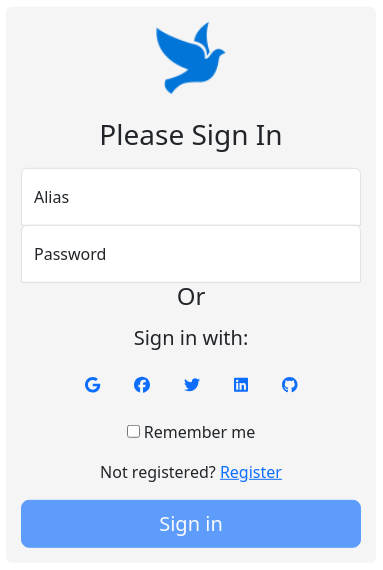
Test case: Login Component › disables sign in button if either field is blank
In the field labelled "Alias": (191,196) [21,167,361,225], type "f"
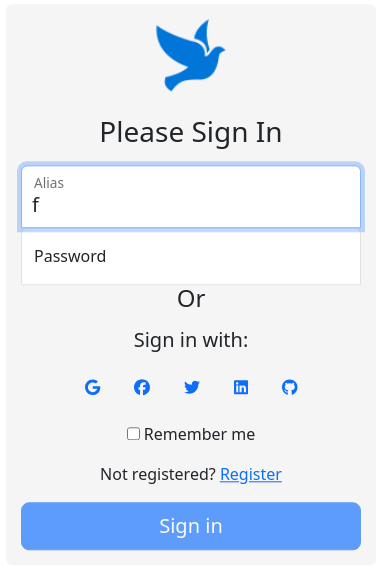
In the password field labelled "Password": (191,256) [21,227,361,285], type "f"
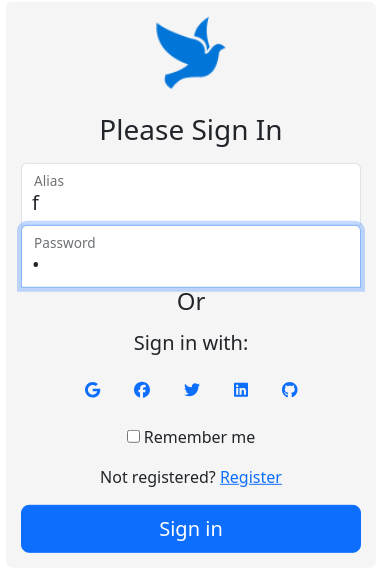
Clear the field labelled "Alias": (191,194) [21,162,361,225]
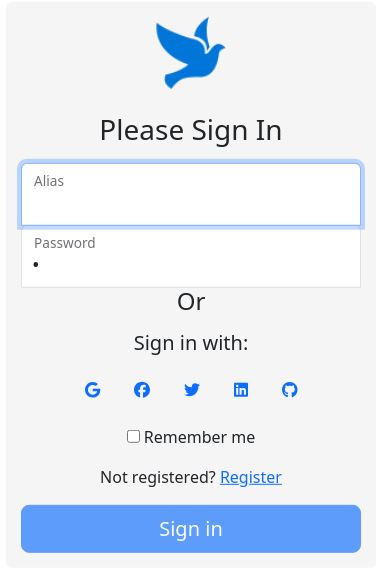
Check: the button "Sign in" is disabled, box [21,505,361,553]
In the field labelled "Alias": (191,194) [21,162,361,225], type "f"
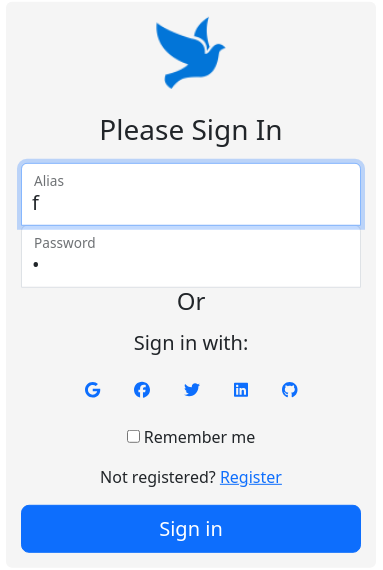
Clear the password field labelled "Password": (191,256) [21,224,361,287]
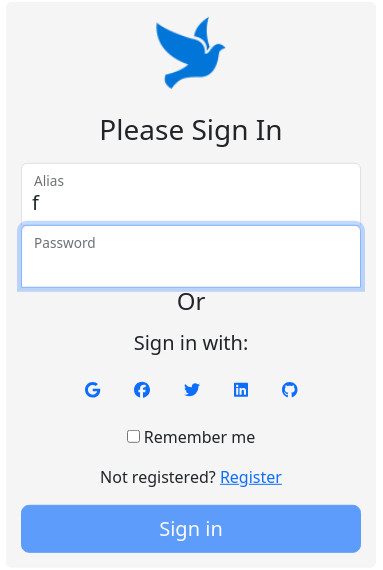
Check: the button "Sign in" is disabled, box [21,505,361,553]
